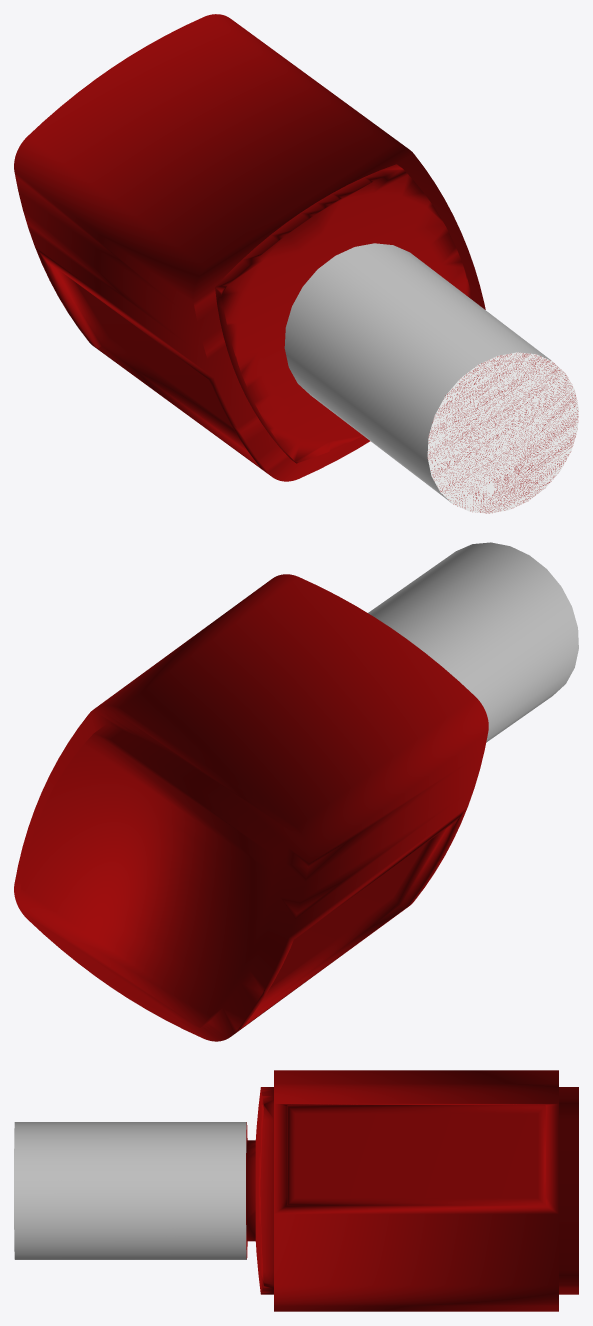
Rendered from model_scale.obj.
The picture shows the model from 3 angles, top to bottom: view 1: azimuth 30°, elevation 25°; view 2: azimuth 150°, elevation 25°; view 3: azimuth 270°, elevation 25°; orthographic projection. The views are drawn at different scales.
Visible parts, largest first — view 1: mesh2_mesh2-geometry, mesh1_mesh1-geometry, mesh3_mesh3-geometry; view 2: mesh2_mesh2-geometry, mesh1_mesh1-geometry; view 3: mesh2_mesh2-geometry, mesh1_mesh1-geometry, mesh3_mesh3-geometry, mesh4_mesh4-geometry.
Part boxes in pixels (left/top/right/bottom): mesh2_mesh2-geometry: left=14, top=14, right=485, bottom=481; mesh1_mesh1-geometry: left=284, top=243, right=578, bottom=513; mesh3_mesh3-geometry: left=215, top=164, right=472, bottom=463; mesh2_mesh2-geometry: left=14, top=574, right=488, bottom=1041; mesh1_mesh1-geometry: left=368, top=542, right=578, bottom=742; mesh2_mesh2-geometry: left=274, top=1070, right=578, bottom=1311; mesh1_mesh1-geometry: left=14, top=1122, right=246, bottom=1259; mesh3_mesh3-geometry: left=255, top=1087, right=273, bottom=1294; mesh4_mesh4-geometry: left=246, top=1122, right=255, bottom=1258.
Size of the model in its own units: 0.0925 by 0.093 by 0.1923.
